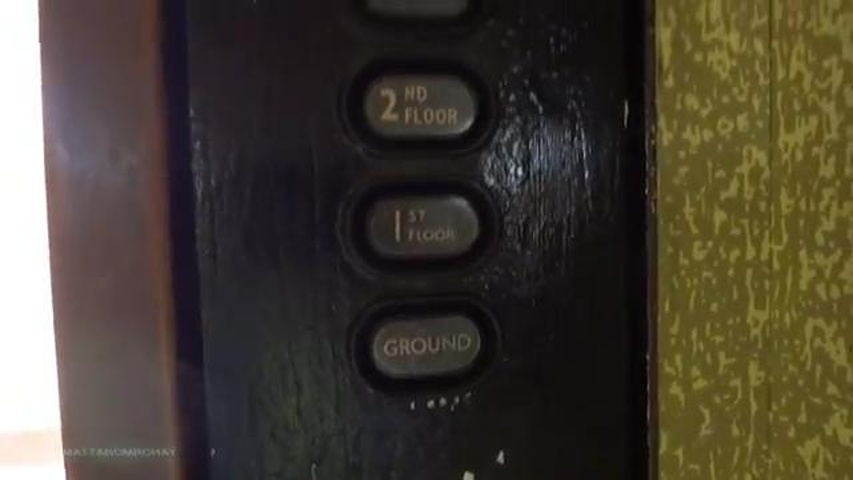1: (332, 170, 504, 281)
2: (338, 49, 503, 163)
text: (342, 291, 508, 402)
